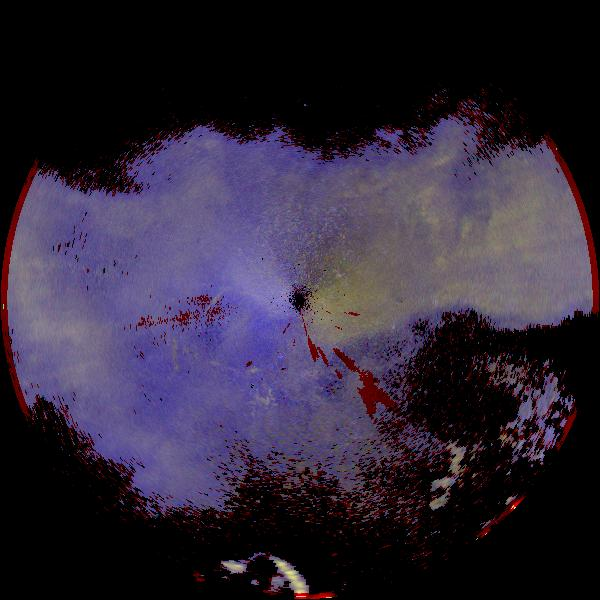roost: (138, 328, 201, 391)
